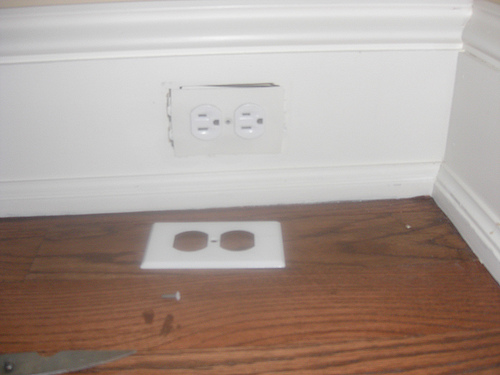outlet: (238, 110, 265, 133), (195, 111, 221, 134)
